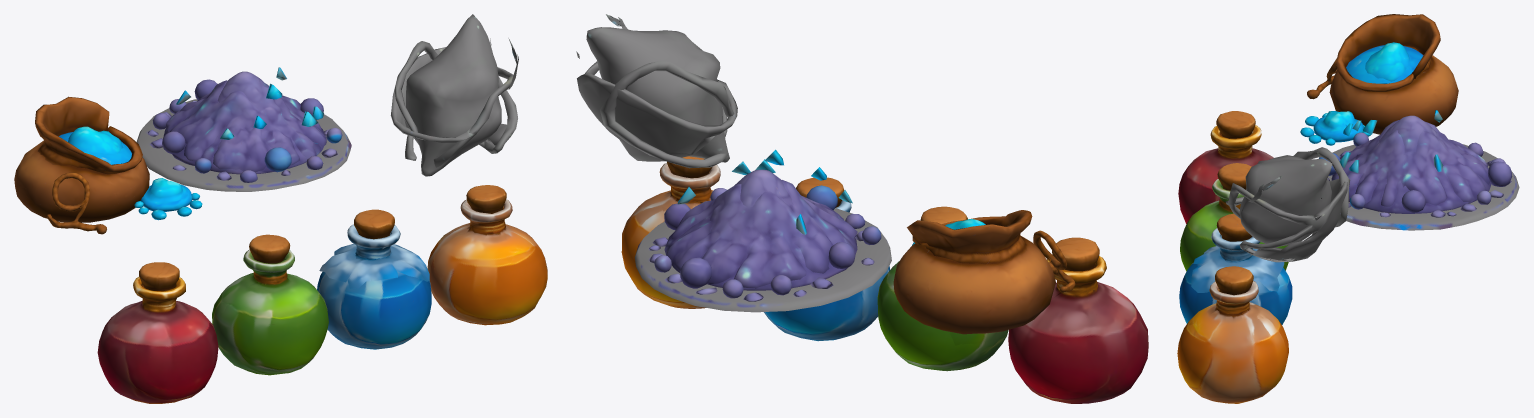
The model's file is alquimia_origen.glb.
3 views of the same model, side by side, from view 1: azimuth 30°, elevation 25°; view 2: azimuth 150°, elevation 25°; view 3: azimuth 270°, elevation 25° (orthographic). The views are drawn at different scales.
Visible parts, largest first — view 1: geometry_0; view 2: geometry_0; view 3: geometry_0.
Boxes of the visible parts, x1,y1,x2,y2 form: geometry_0: (14, 14, 547, 403); geometry_0: (576, 14, 1148, 403); geometry_0: (1177, 14, 1519, 403).
Bounding box in the file's own units: 1 × 0.5567 × 0.7127.
1 material, 1 textured.
